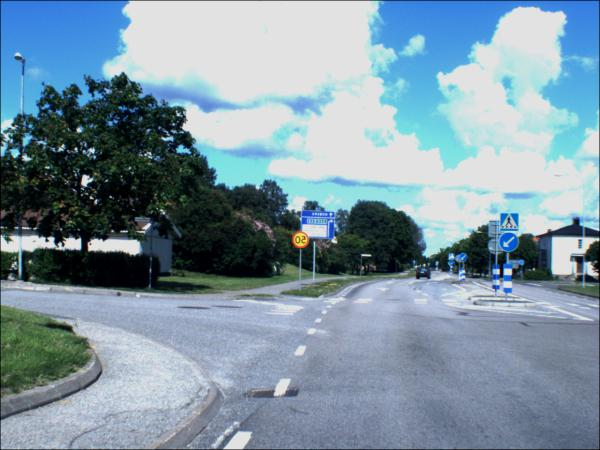50_SIGN: (292, 232, 310, 250)
PASS_RIGHT_SIDE: (498, 234, 519, 254), (459, 254, 469, 264), (448, 261, 455, 268)
PEDESTRIAN_CROSSING: (500, 215, 520, 233), (449, 255, 455, 261)
